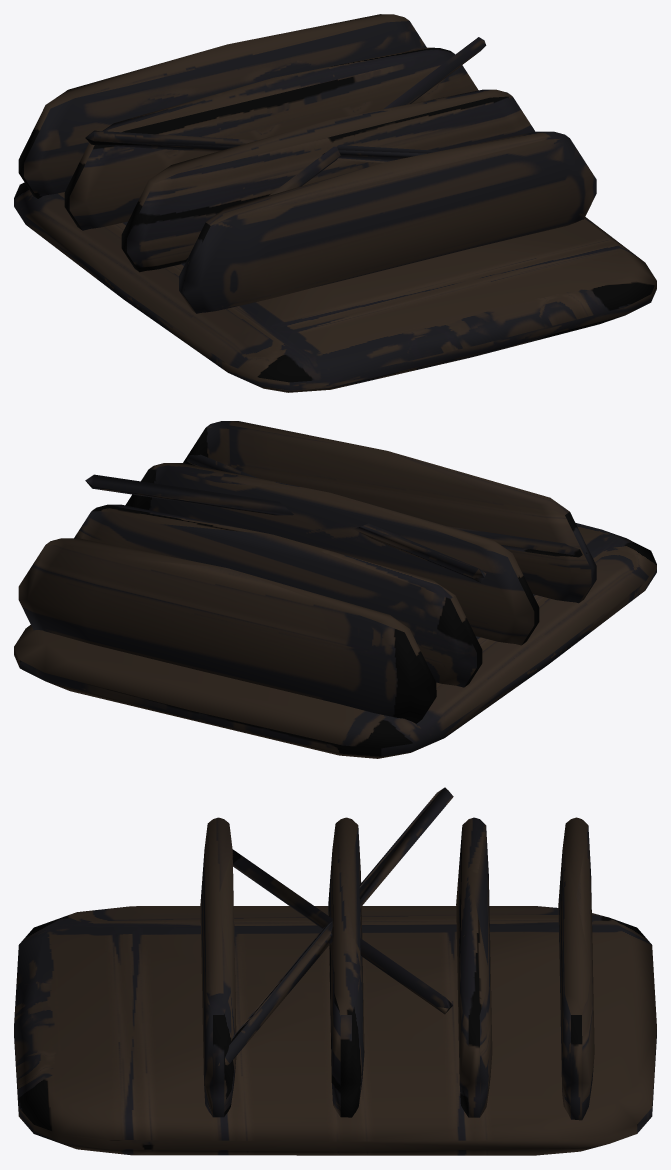
Rendered from Atalanta_SandaliaIzq.fbx.
The picture shows the model from 3 angles, top to bottom: view 1: azimuth 30°, elevation 25°; view 2: azimuth 150°, elevation 25°; view 3: azimuth 270°, elevation 25°; orthographic projection. The views are drawn at different scales.
Parts seen in each view (by area): view 1: Atalanta_SandaliaIzq; view 2: Atalanta_SandaliaIzq; view 3: Atalanta_SandaliaIzq.
Part boxes in pixels (left/top/right/bottom): Atalanta_SandaliaIzq: left=14, top=14, right=656, bottom=392; Atalanta_SandaliaIzq: left=14, top=421, right=656, bottom=758; Atalanta_SandaliaIzq: left=14, top=787, right=656, bottom=1155.
Size of the model in its own units: 1.07 by 0.3636 by 1.26.
